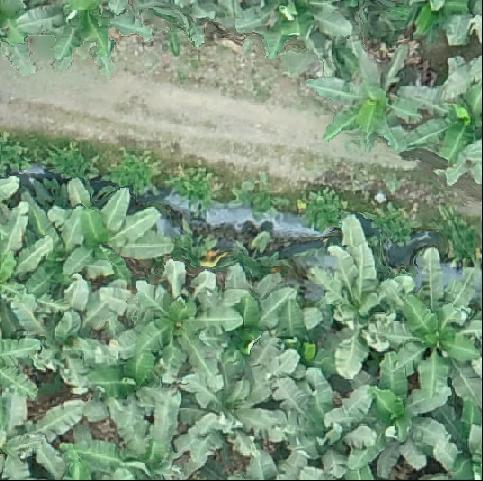Banana-plant: (308, 212, 415, 378), (99, 261, 242, 383), (372, 245, 483, 396), (63, 380, 225, 481), (236, 368, 378, 481), (177, 332, 304, 456), (39, 175, 177, 289), (308, 38, 437, 158), (0, 272, 117, 396), (343, 355, 453, 481), (395, 53, 483, 189), (191, 261, 299, 358), (16, 0, 156, 74), (230, 0, 355, 63), (0, 391, 91, 477), (420, 390, 483, 481)
